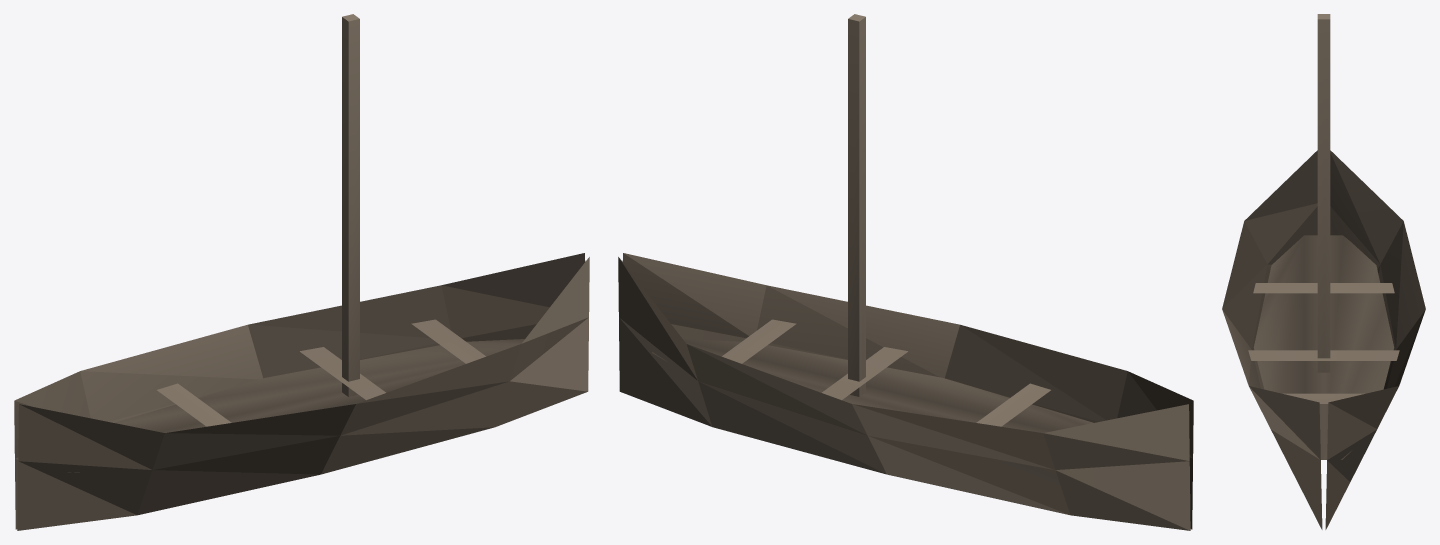
File: sg_boat.glb
3 views of the same model, side by side, from view 1: azimuth 30°, elevation 25°; view 2: azimuth 150°, elevation 25°; view 3: azimuth 270°, elevation 25° (orthographic). The views are drawn at different scales.
Parts seen in each view (by area): view 1: sg_boat_SG_Joinery; view 2: sg_boat_SG_Joinery; view 3: sg_boat_SG_Joinery.
Boxes of the visible parts, <box> form: sg_boat_SG_Joinery: <box>14,14,589,530</box>; sg_boat_SG_Joinery: <box>618,14,1193,530</box>; sg_boat_SG_Joinery: <box>1222,14,1425,529</box>.
Size of the model in its own units: 7 by 5.05 by 2.3.
